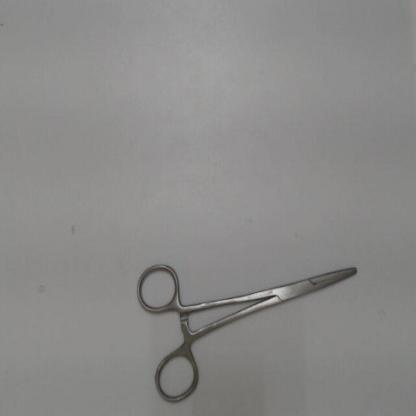Mayo Needle Holder: (128, 248, 370, 408)
